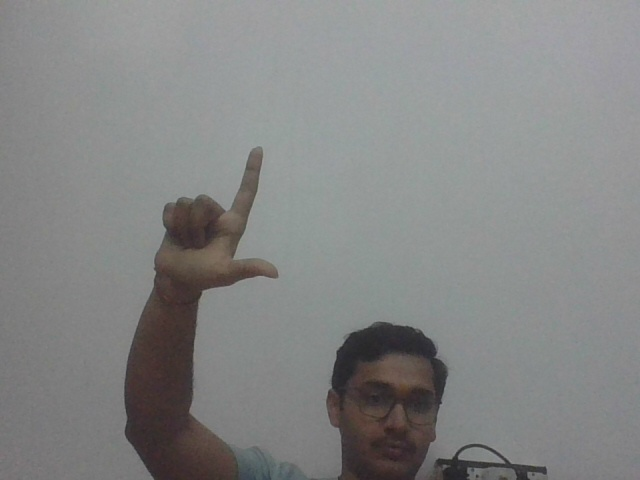L: (159, 144, 293, 297)
